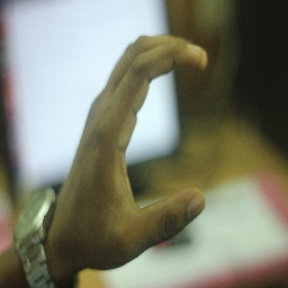C: (78, 33, 216, 249)
